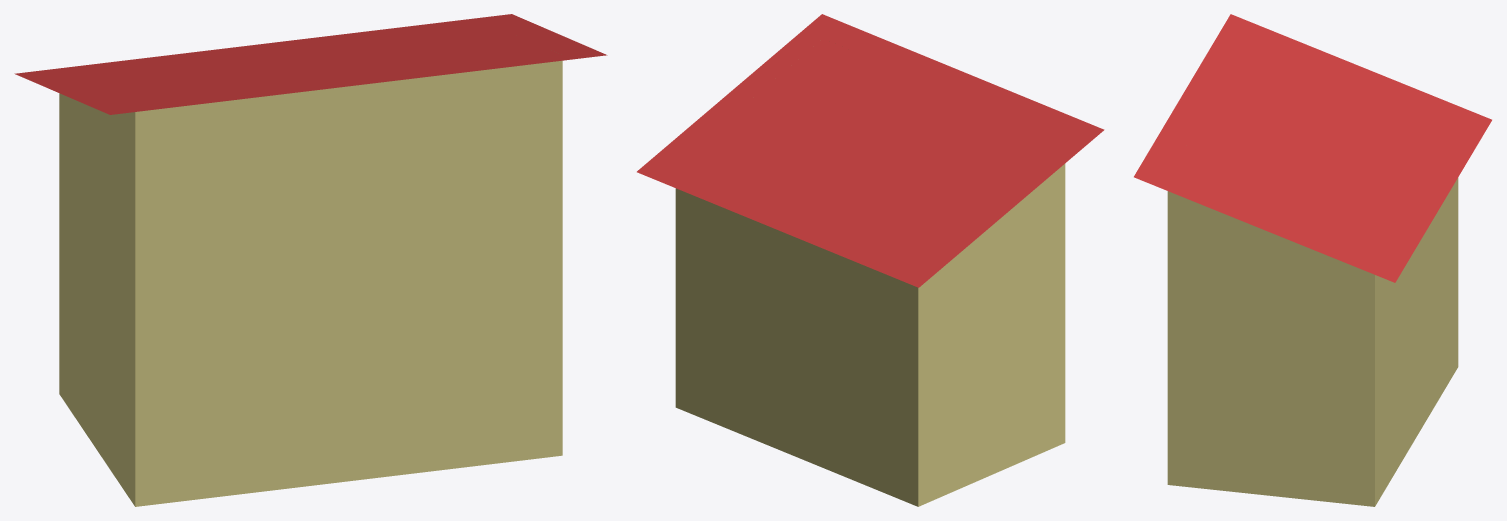
The picture shows the model from 3 angles, left to right: view 1: azimuth 30°, elevation 25°; view 2: azimuth 150°, elevation 25°; view 3: azimuth 270°, elevation 25°; orthographic projection. The views are drawn at different scales.
Size of the model in its own units: 8.05 by 6.39 by 6.22.
